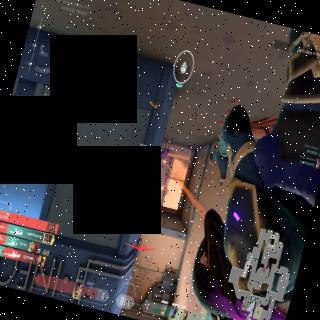ENEMY-BODY: (158, 144, 170, 170)
ENEMY-HEAD: (160, 163, 163, 168)
